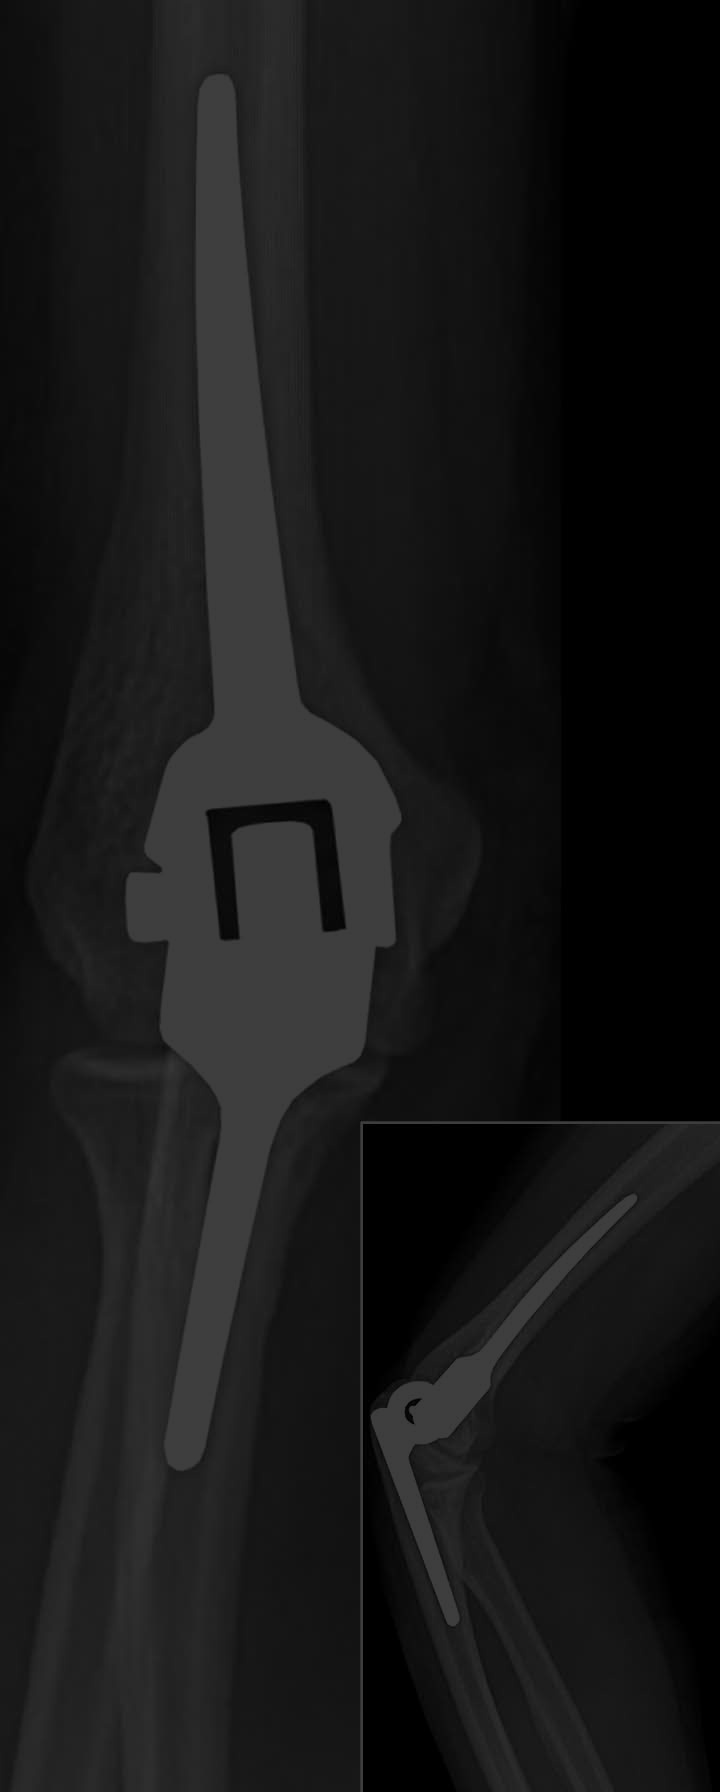Elbow - Osteonics - Stryker: (65, 63, 413, 1313), (365, 1170, 661, 1645)
